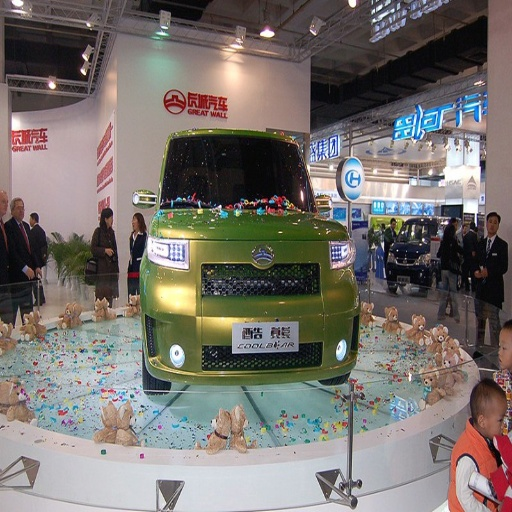back_bumper: (150, 320, 188, 378)
